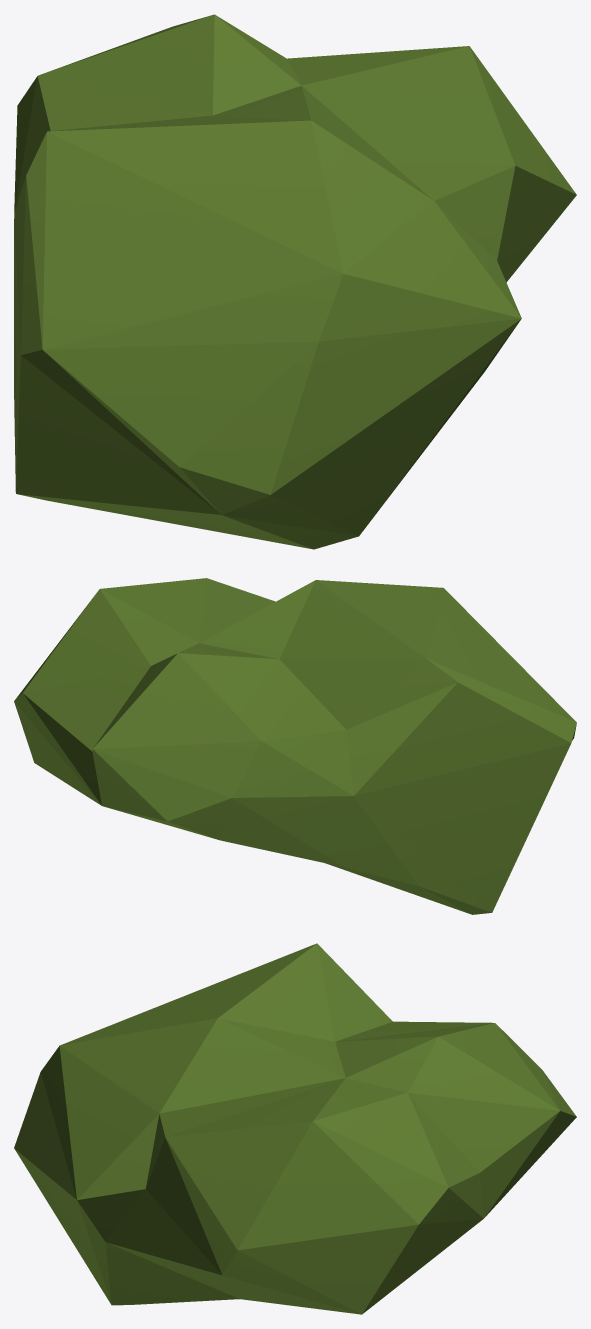
File: BushC.glb
The picture shows the model from 3 angles, top to bottom: view 1: azimuth 30°, elevation 25°; view 2: azimuth 150°, elevation 25°; view 3: azimuth 270°, elevation 25°; orthographic projection. The views are drawn at different scales.
Parts seen in each view (by area): view 1: BushC_LOD0; view 2: BushC_LOD0; view 3: BushC_LOD0.
Part boxes in pixels (left/top/right/bottom): BushC_LOD0: left=14, top=14, right=576, bottom=549; BushC_LOD0: left=14, top=578, right=576, bottom=914; BushC_LOD0: left=14, top=943, right=576, bottom=1314.
Size of what is drawn, in the model's own units: 0.8999 by 0.5551 by 0.9247.
